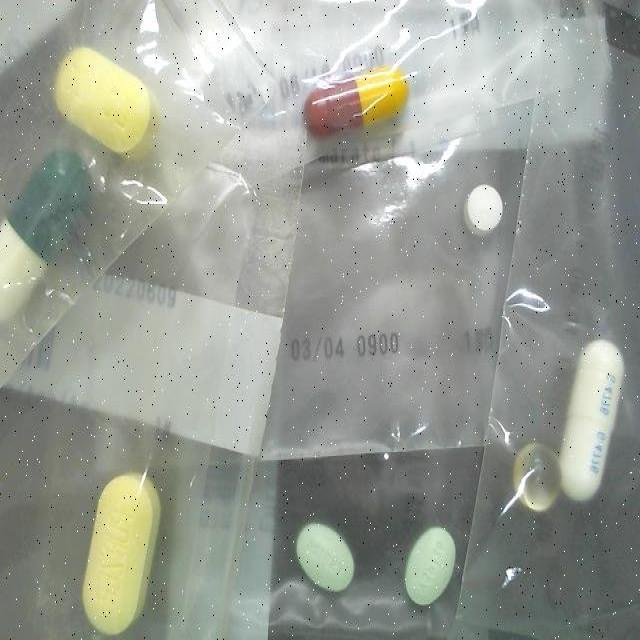pill: (0, 156, 84, 314), (84, 475, 158, 636), (53, 46, 154, 154), (562, 336, 624, 504), (300, 72, 410, 128), (296, 523, 356, 597), (404, 525, 455, 610), (465, 182, 504, 236)
